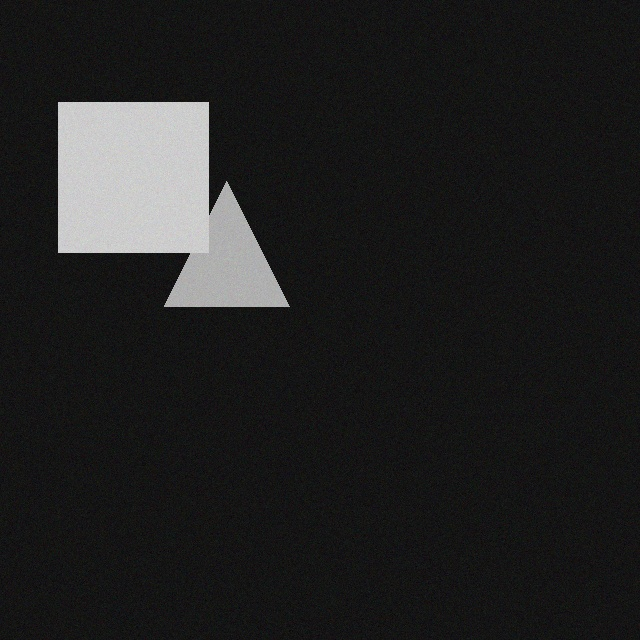square: (68, 101, 218, 251)
triangle: (174, 180, 299, 305)
